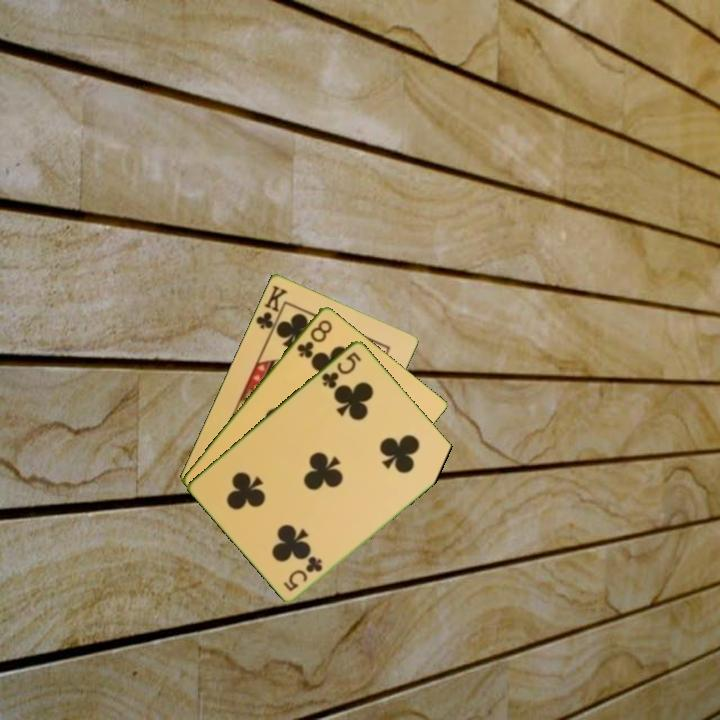5c: (318, 348, 364, 391), (280, 553, 325, 594)
8c: (293, 316, 335, 361)
Kc: (252, 281, 290, 337)
